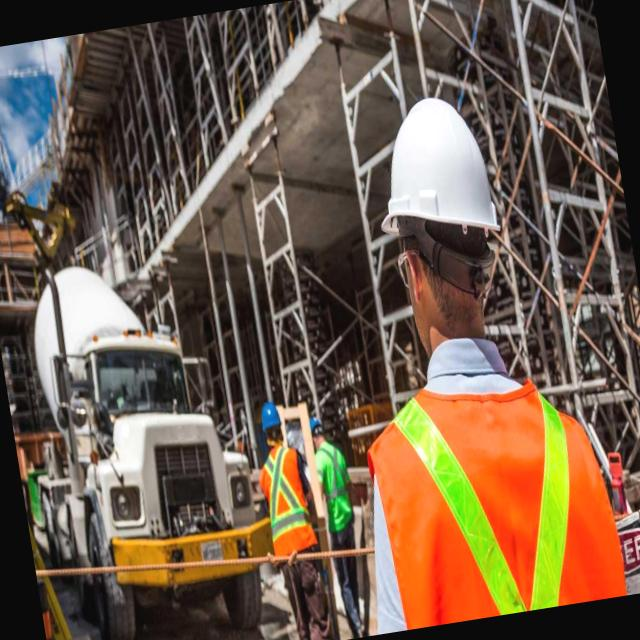helmet: (356, 86, 509, 259), (253, 396, 286, 444), (306, 412, 326, 443)
vest: (348, 340, 634, 634), (256, 444, 325, 569), (312, 438, 363, 552)
